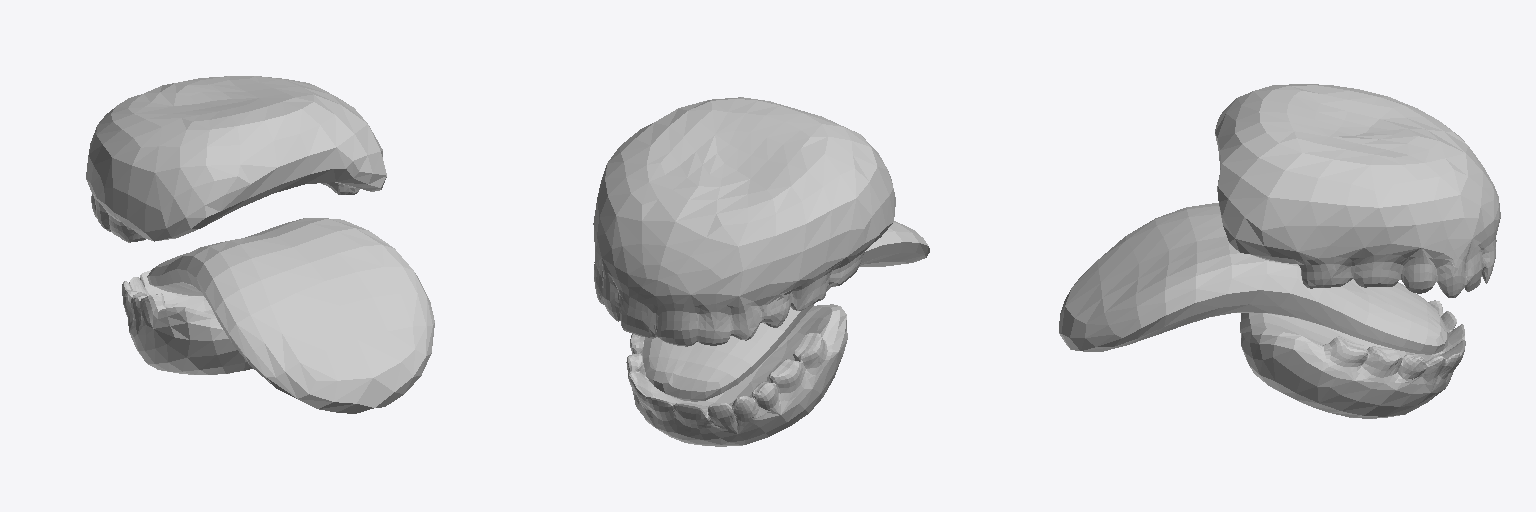
The model's file is mouth.obj.
The picture shows the model from 3 angles: view 1: azimuth 30°, elevation 25°; view 2: azimuth 150°, elevation 25°; view 3: azimuth 270°, elevation 25°; orthographic projection.
Parts seen in each view (by area): view 1: tongue, teeth_top, teeth_bottom; view 2: teeth_top, teeth_bottom, tongue; view 3: teeth_top, tongue, teeth_bottom.
Part boxes in pixels (x1,y1,x2,y2): tongue: (147,218,434,413); teeth_top: (86,76,386,242); teeth_bottom: (122,270,252,374); teeth_top: (593,97,895,346); teeth_bottom: (626,304,847,446); tongue: (643,221,929,401); teeth_top: (1215,84,1500,297); tongue: (1059,203,1447,354); teeth_bottom: (1240,300,1465,418).
Size of the model in its own units: 0.4688 by 0.509 by 0.7107.